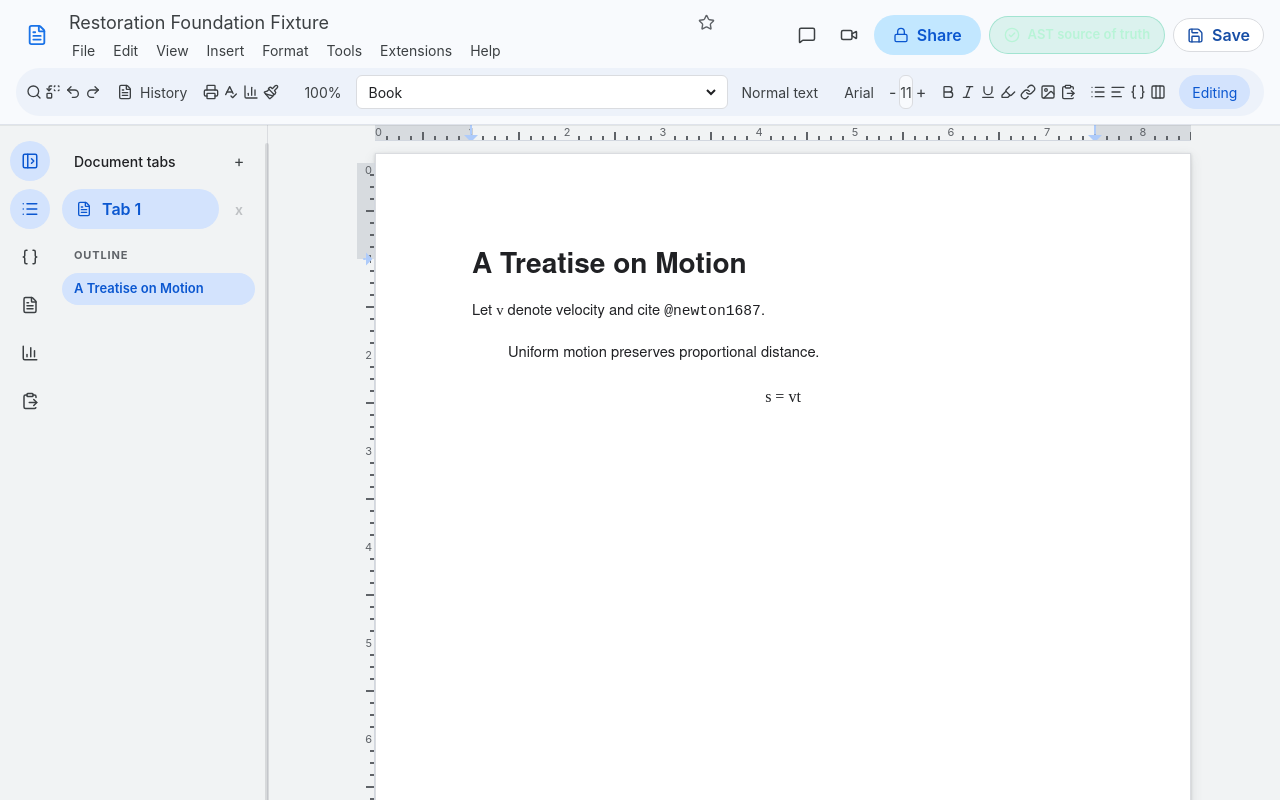
Test: EditorWorkspace › finds and selects matching document text without replacing it
This screenshot has width=1280, height=800.
Click the button named "Find and replace" at coordinates (53, 92), box top-left (44, 75), bottom-right (62, 109)
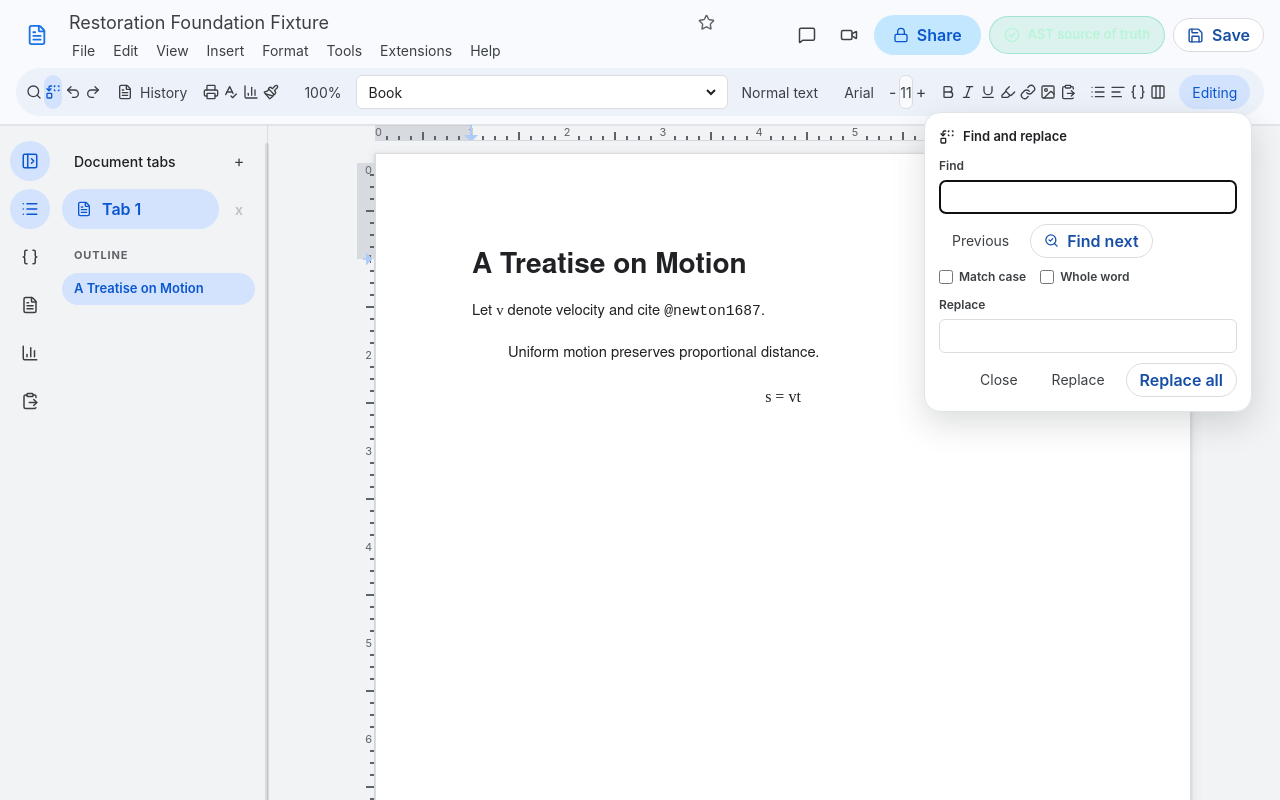
Type "motion" into the search field named "Find text" at coordinates (1088, 196), box top-left (939, 180), bottom-right (1237, 214)
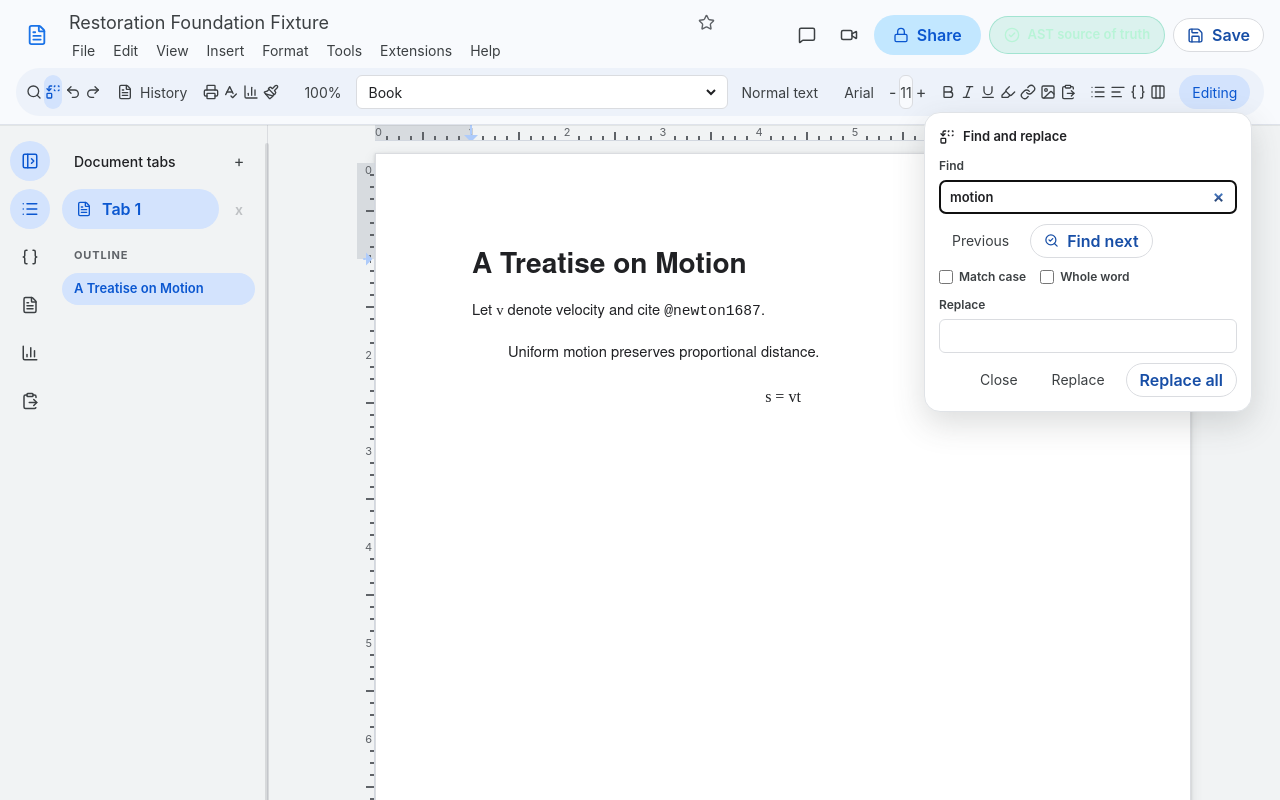
Click the button "Find next" at coordinates (1091, 240), box top-left (1030, 224), bottom-right (1152, 258)
(page scrolled)
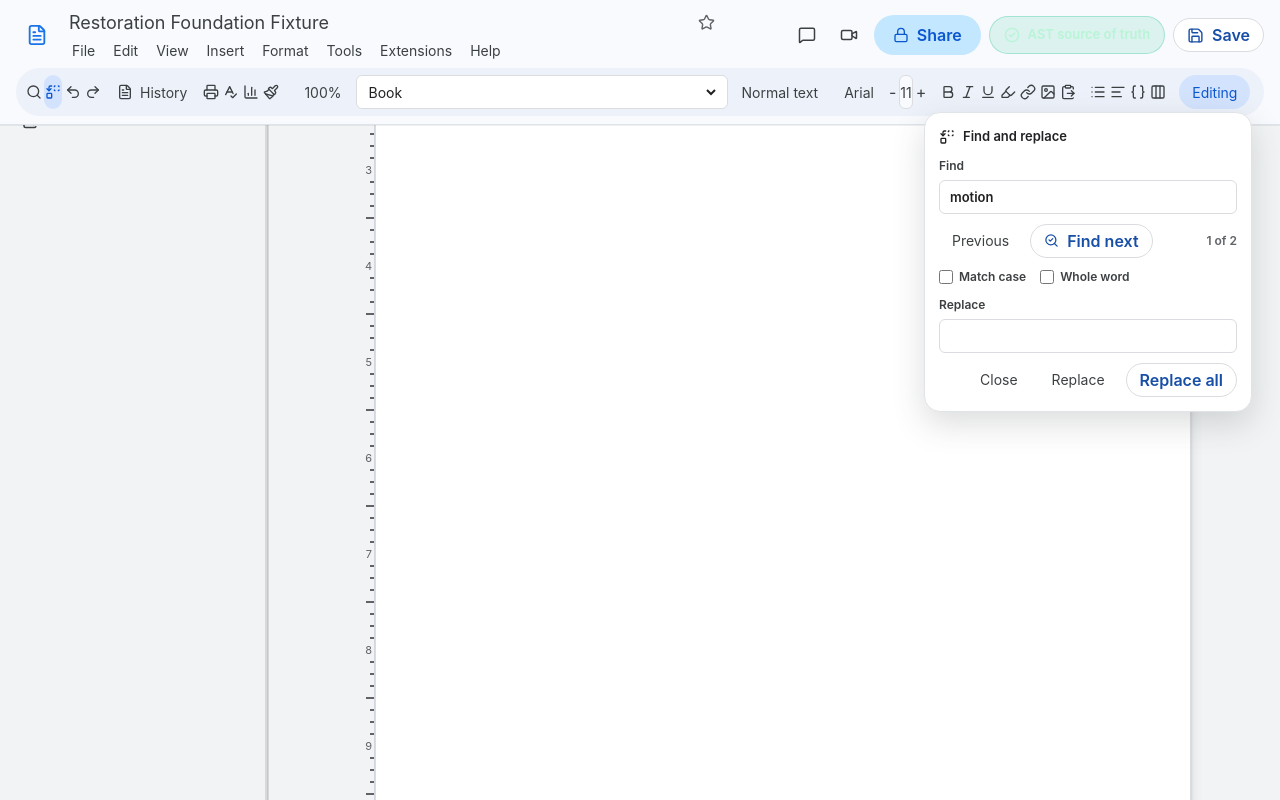
Expected: the text "1 of 2" is shown, top-left (1206, 232), bottom-right (1237, 248)
